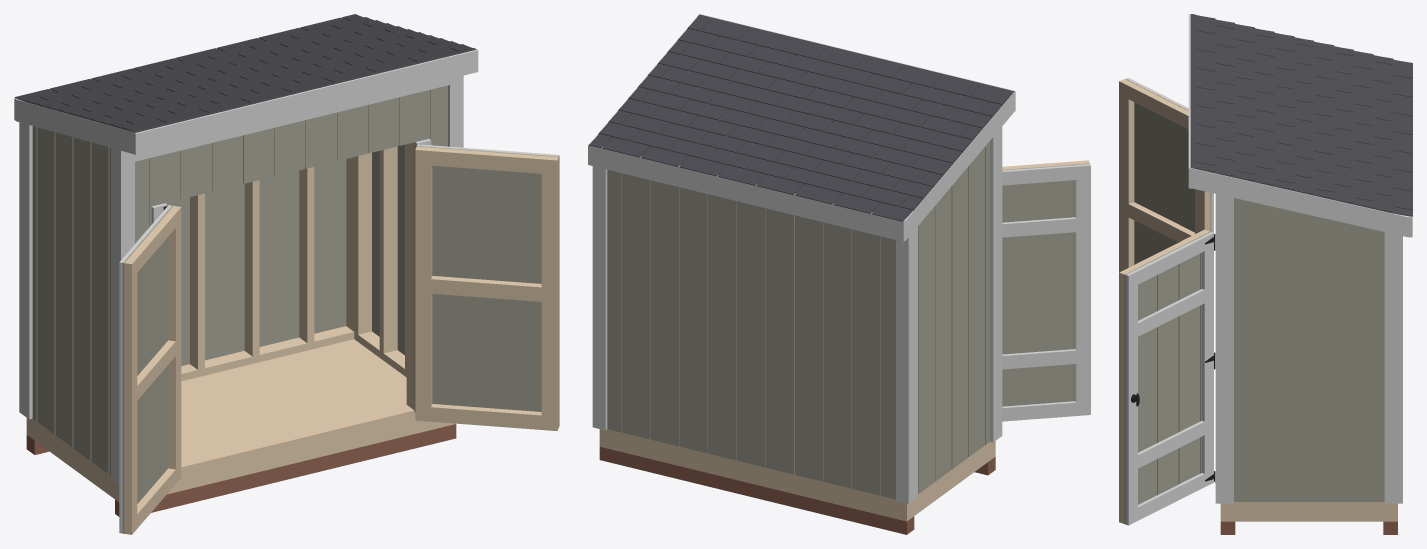
Rendered from Lean_To_Shed_01.glb.
3 views of the same model, side by side, from view 1: azimuth 30°, elevation 25°; view 2: azimuth 150°, elevation 25°; view 3: azimuth 270°, elevation 25° (orthographic). The views are drawn at different scales.
Parts seen in each view (by area): view 1: 4x8ft Plywood.001, 1x6in Board.004, T1-11 Exterior Siding 12in Panel.041, T1-11 Exterior Siding 12in Panel.042, T1-11 Exterior Siding 12in Panel.043, T1-11 Exterior Siding 12in Panel.028, T1-11 Exterior Siding 12in Panel.025, T1-11 Exterior Siding 12in Panel.024, 2x6in Board.001, T1-11 Exterior Siding 12in Panel.027, T1-11 Exterior Siding 12in Panel.015, T1-11 Exterior Siding 12in Panel.013 (+80 smaller); view 2: T1-11 Exterior Siding 12in Panel.018, T1-11 Exterior Siding 12in Panel.013, T1-11 Exterior Siding 12in Panel.019, T1-11 Exterior Siding 12in Panel.014, T1-11 Exterior Siding 12in Panel.015, T1-11 Exterior Siding 12in Panel.021, T1-11 Exterior Siding 12in Panel.016, T1-11 Exterior Siding 12in Panel.017, T1-11 Exterior Siding 12in Panel.022, 1x6in Board.003, T1-11 Exterior Siding 12in Panel.039, T1-11 Exterior Siding 12in Panel.038 (+56 smaller); view 3: T1-11 Exterior Siding 12in Panel.034, T1-11 Exterior Siding 12in Panel.031, T1-11 Exterior Siding 12in Panel.030, T1-11 Exterior Siding 12in Panel.033, 1x4in Board.007, 1x6in Board.001, 1x4in Board.011, T1-11 Exterior Siding 12in Panel.042, T1-11 Exterior Siding 12in Panel.043, T1-11 Exterior Siding 12in Panel.041, 2x6in Board.009, 1x4in Board.019 (+54 smaller).
Boxes of the visible parts, left/top/right/bottom form: 4x8ft Plywood.001: left=181, top=339, right=414, bottom=468; 1x6in Board.004: left=133, top=49, right=478, bottom=155; T1-11 Exterior Siding 12in Panel.041: left=503, top=152, right=540, bottom=411; T1-11 Exterior Siding 12in Panel.042: left=468, top=150, right=505, bottom=409; T1-11 Exterior Siding 12in Panel.043: left=432, top=147, right=469, bottom=406; T1-11 Exterior Siding 12in Panel.028: left=91, top=142, right=109, bottom=473; T1-11 Exterior Siding 12in Panel.025: left=73, top=137, right=91, bottom=460; T1-11 Exterior Siding 12in Panel.024: left=55, top=132, right=73, bottom=447; 2x6in Board.001: left=119, top=412, right=455, bottom=501; T1-11 Exterior Siding 12in Panel.027: left=37, top=127, right=55, bottom=434; T1-11 Exterior Siding 12in Panel.015: left=207, top=185, right=238, bottom=359; T1-11 Exterior Siding 12in Panel.013: left=269, top=170, right=299, bottom=344; T1-11 Exterior Siding 12in Panel.018: left=795, top=215, right=824, bottom=481; T1-11 Exterior Siding 12in Panel.013: left=651, top=180, right=680, bottom=446; T1-11 Exterior Siding 12in Panel.019: left=824, top=223, right=853, bottom=488; T1-11 Exterior Siding 12in Panel.014: left=680, top=187, right=709, bottom=453; T1-11 Exterior Siding 12in Panel.015: left=709, top=194, right=737, bottom=460; T1-11 Exterior Siding 12in Panel.021: left=623, top=173, right=651, bottom=439; T1-11 Exterior Siding 12in Panel.016: left=738, top=201, right=766, bottom=467; T1-11 Exterior Siding 12in Panel.017: left=767, top=208, right=795, bottom=474; T1-11 Exterior Siding 12in Panel.022: left=853, top=229, right=881, bottom=495; 1x6in Board.003: left=588, top=144, right=905, bottom=241; T1-11 Exterior Siding 12in Panel.039: left=1041, top=164, right=1074, bottom=403; T1-11 Exterior Siding 12in Panel.038: left=1008, top=167, right=1042, bottom=405; T1-11 Exterior Siding 12in Panel.034: left=1242, top=200, right=1275, bottom=501; T1-11 Exterior Siding 12in Panel.031: left=1276, top=207, right=1309, bottom=501; T1-11 Exterior Siding 12in Panel.030: left=1309, top=215, right=1342, bottom=501; T1-11 Exterior Siding 12in Panel.033: left=1342, top=222, right=1375, bottom=501; 1x4in Board.007: left=1219, top=194, right=1233, bottom=503; 1x6in Board.001: left=1192, top=168, right=1408, bottom=237; 1x4in Board.011: left=1384, top=232, right=1399, bottom=503; T1-11 Exterior Siding 12in Panel.042: left=1157, top=247, right=1179, bottom=494; T1-11 Exterior Siding 12in Panel.043: left=1178, top=236, right=1200, bottom=483; T1-11 Exterior Siding 12in Panel.041: left=1136, top=258, right=1157, bottom=504; 2x6in Board.009: left=1228, top=501, right=1390, bottom=521; 1x4in Board.019: left=1125, top=270, right=1137, bottom=525.
Size of the model in its own units: 3.22 by 2.8 by 2.02.
